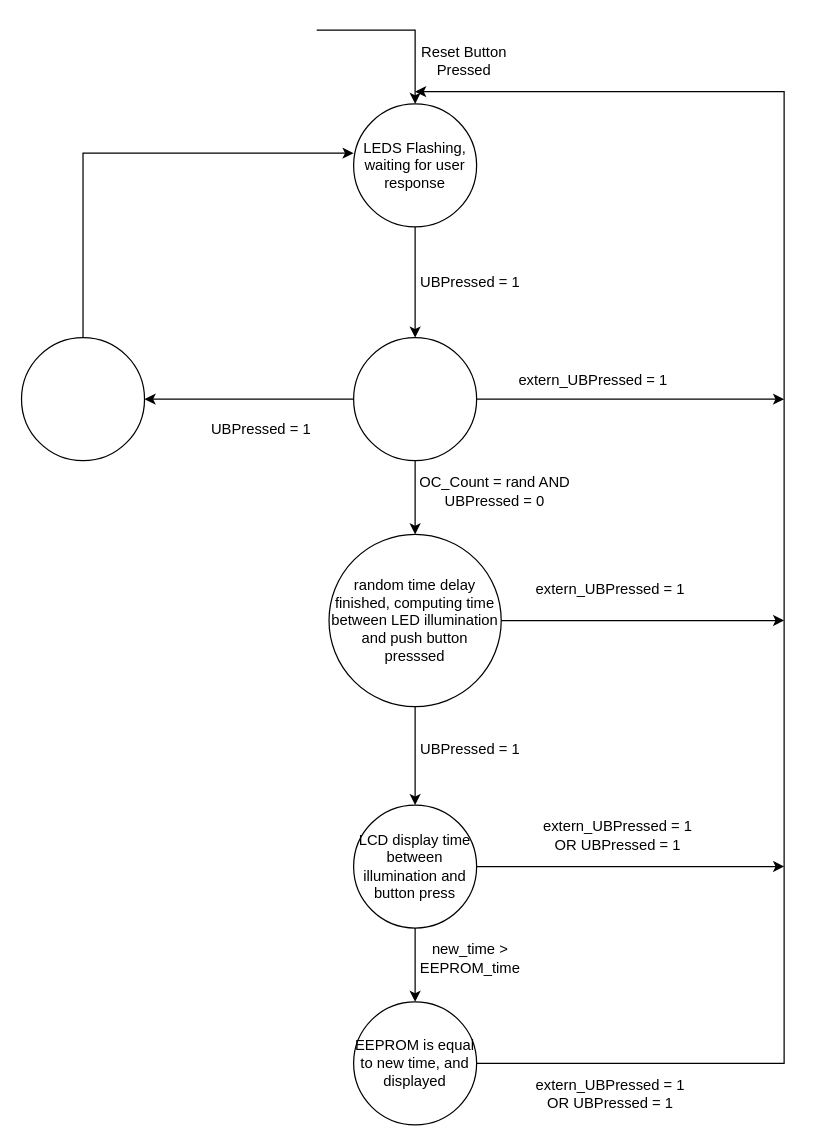
The diagram is 815 pixels wide and 1146 high, and some of its shapes have lost their labels. The centre of each missing label's shape, as x and y in pixels:
LCD Display "Cheat": (x=82, y=398)
LEDS off, random time delay start: (x=414, y=398)
